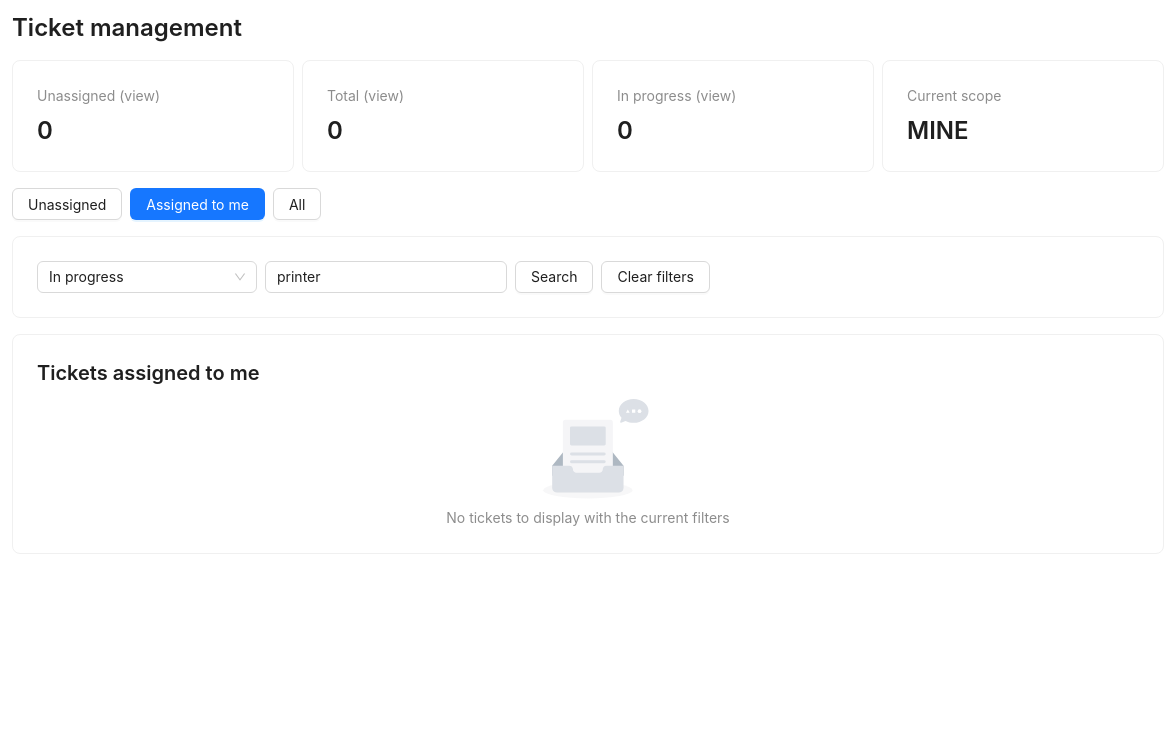
Scenario: AgentAdminTicketsPage › allows applying search and clearing filters
The width and height of the screenshot is (1164, 732).
Expected: the heading "Tickets assigned to me" is shown, [37, 361, 260, 385]
Replace the text in the field with placeholder "Search by title" with "network": [386, 277] box [265, 261, 507, 293]
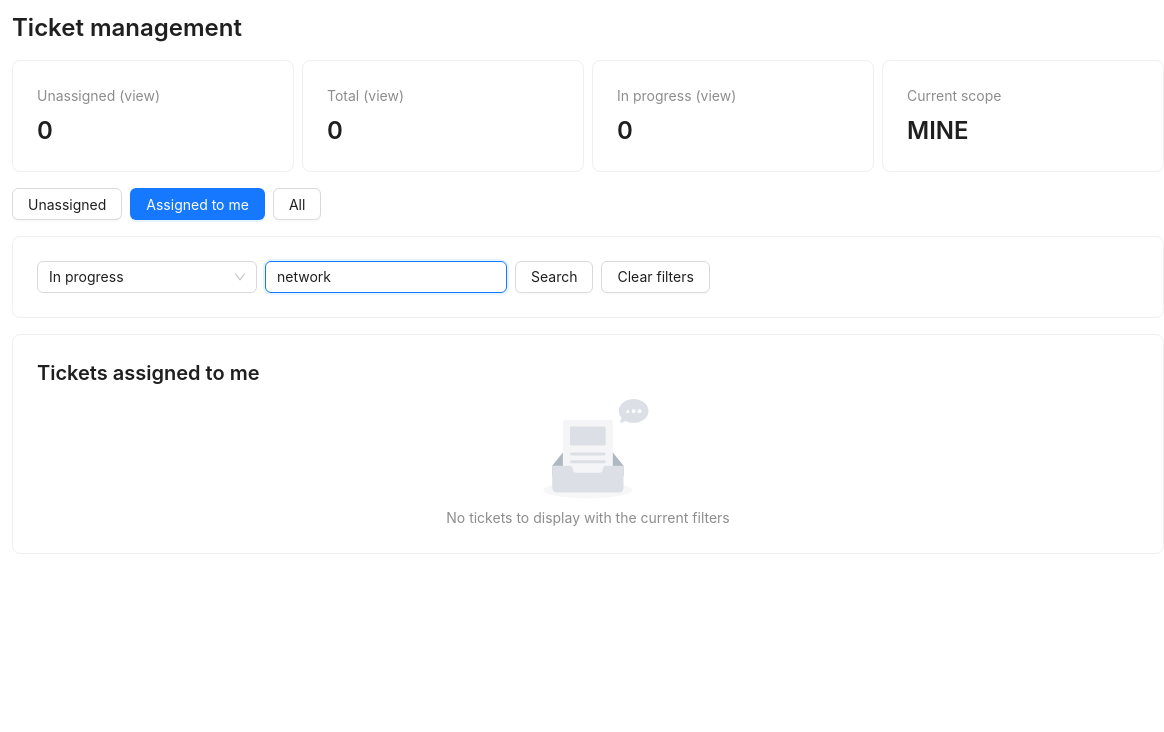
Click the button "Search": [554, 277] box [515, 261, 594, 293]
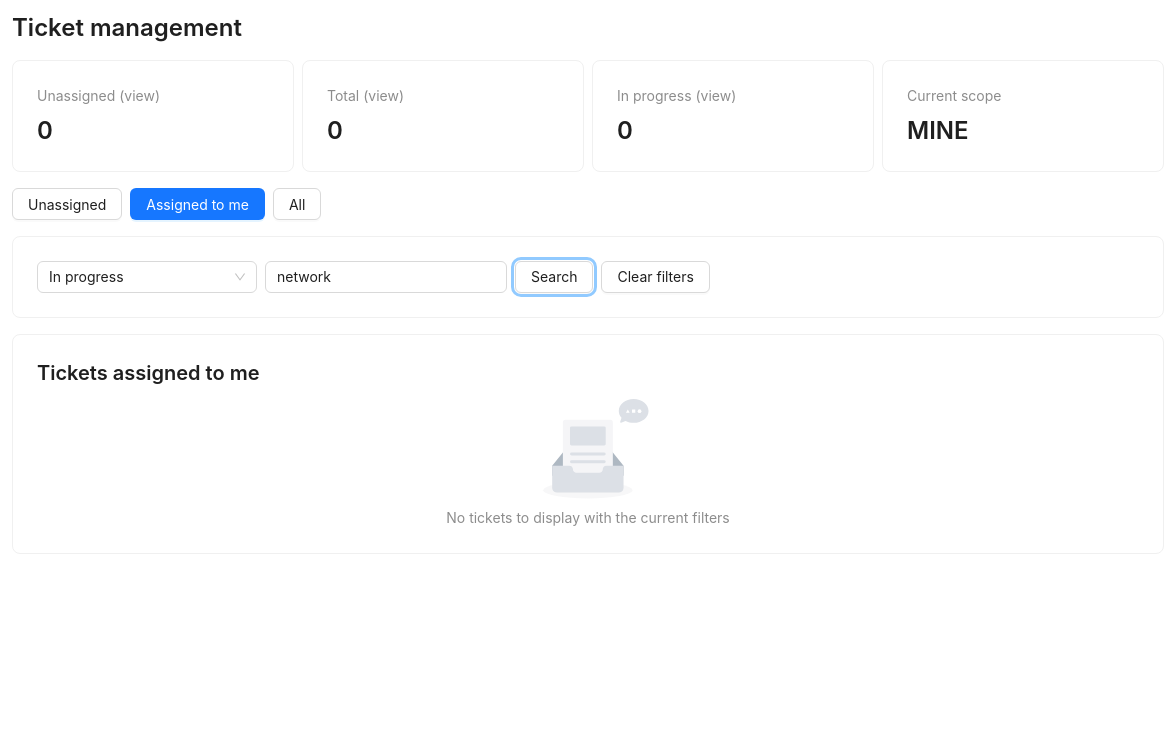
Click the button "Clear filters": [656, 277] box [602, 261, 710, 293]
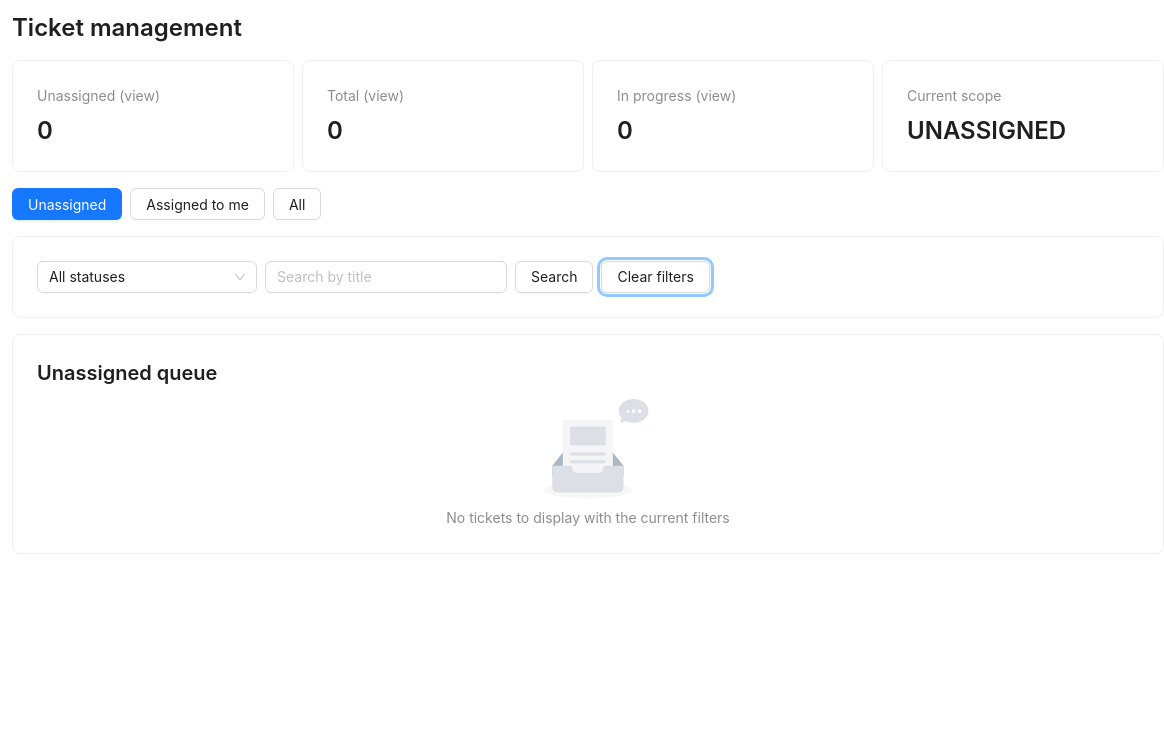
Now the heading "Unassigned queue" is shown, box [37, 361, 217, 385]
